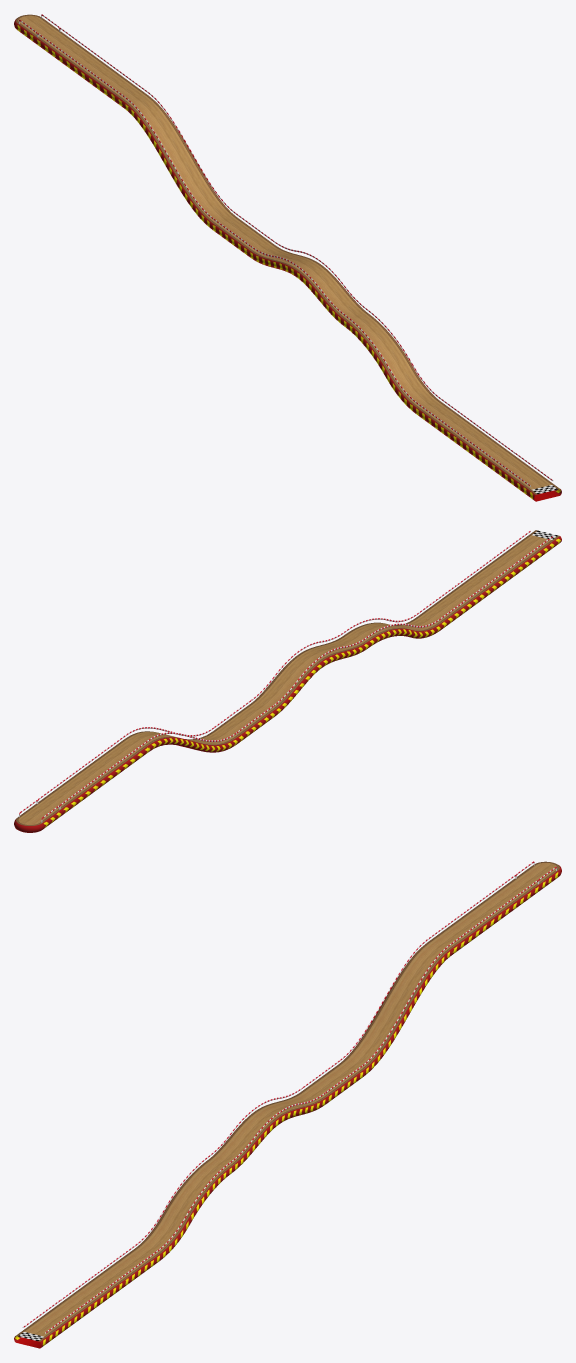
The model's file is map2.fbx.
3 renders of one model, top to bottom at view 1: azimuth 30°, elevation 25°; view 2: azimuth 150°, elevation 25°; view 3: azimuth 330°, elevation 25°, orthographic.
Parts seen in each view (by area): view 1: Terrain_CurveDown_Bar_2, Terrain_CurveUp_Bar, Terrain_CurveDown_Bar_3_1, Terrain_Flat_Bar_2, Terrain_CurveDown_Bar_Bonus_1_3, Terrain_Flat_Bar_1__1_, Terrain_CurveDown_Bar_3_2__1_, Terrain_CurveDown_Bar_3_2, Terrain_Flat_BarStart_1, Terrain_Flat_Bar_1; view 2: Terrain_CurveUp_Bar, Terrain_Flat_Bar_2, Terrain_CurveDown_Bar_2, Terrain_CurveDown_Bar_3_2, Terrain_Flat_Bar_1__1_, Terrain_CurveDown_Bar_3_2__1_, Terrain_Flat_Bar_1, Terrain_Flat_BarStart_1, Terrain_CurveDown_Bar_3_1, Dummy_Start_1, Terrain_CurveDown_Bar_Bonus_1_3; view 3: Terrain_CurveDown_Bar_2, Terrain_CurveUp_Bar, Terrain_CurveDown_Bar_3_1, Terrain_Flat_Bar_2, Terrain_CurveDown_Bar_Bonus_1_3, Terrain_Flat_Bar_1__1_, Terrain_Flat_BarStart_1, Terrain_Flat_Bar_1, Terrain_CurveDown_Bar_3_2, Terrain_CurveDown_Bar_3_2__1_.
Part boxes in pixels (left/top/right/bottom): Terrain_CurveDown_Bar_2: left=123, top=96, right=236, bottom=228; Terrain_CurveUp_Bar: left=248, top=244, right=368, bottom=324; Terrain_CurveDown_Bar_3_1: left=342, top=313, right=412, bottom=376; Terrain_Flat_Bar_2: left=72, top=59, right=148, bottom=107; Terrain_CurveDown_Bar_Bonus_1_3: left=385, top=367, right=440, bottom=413; Terrain_Flat_Bar_1__1_: left=490, top=457, right=554, bottom=496; Terrain_CurveDown_Bar_3_2__1_: left=452, top=429, right=515, bottom=468; Terrain_CurveDown_Bar_3_2: left=415, top=401, right=478, bottom=440; Terrain_Flat_BarStart_1: left=35, top=31, right=97, bottom=70; Terrain_Flat_Bar_1: left=211, top=217, right=273, bottom=256; Terrain_CurveUp_Bar: left=251, top=635, right=370, bottom=715; Terrain_Flat_Bar_2: left=74, top=739, right=150, bottom=787; Terrain_CurveDown_Bar_2: left=125, top=731, right=238, bottom=752; Terrain_CurveDown_Bar_3_2: left=417, top=589, right=480, bottom=628; Terrain_Flat_Bar_1__1_: left=492, top=534, right=555, bottom=573; Terrain_CurveDown_Bar_3_2__1_: left=454, top=562, right=517, bottom=601; Terrain_Flat_Bar_1: left=213, top=704, right=276, bottom=743; Terrain_Flat_BarStart_1: left=38, top=776, right=100, bottom=815; Terrain_CurveDown_Bar_3_1: left=345, top=622, right=413, bottom=646; Dummy_Start_1: left=18, top=803, right=62, bottom=828; Terrain_CurveDown_Bar_Bonus_1_3: left=395, top=617, right=442, bottom=638; Terrain_CurveDown_Bar_2: left=339, top=943, right=452, bottom=1075; Terrain_CurveUp_Bar: left=207, top=1091, right=327, bottom=1171; Terrain_CurveDown_Bar_3_1: left=163, top=1160, right=233, bottom=1223; Terrain_Flat_Bar_2: left=427, top=906, right=502, bottom=954; Terrain_CurveDown_Bar_Bonus_1_3: left=135, top=1214, right=190, bottom=1260; Terrain_Flat_Bar_1__1_: left=21, top=1303, right=85, bottom=1343; Terrain_Flat_BarStart_1: left=477, top=878, right=540, bottom=918; Terrain_Flat_Bar_1: left=301, top=1064, right=364, bottom=1103; Terrain_CurveDown_Bar_3_2: left=97, top=1248, right=160, bottom=1287; Terrain_CurveDown_Bar_3_2__1_: left=60, top=1276, right=123, bottom=1315.
Bounding box in the file's own units: 512 × 1816 × 16764.
6 materials, 5 textured.
